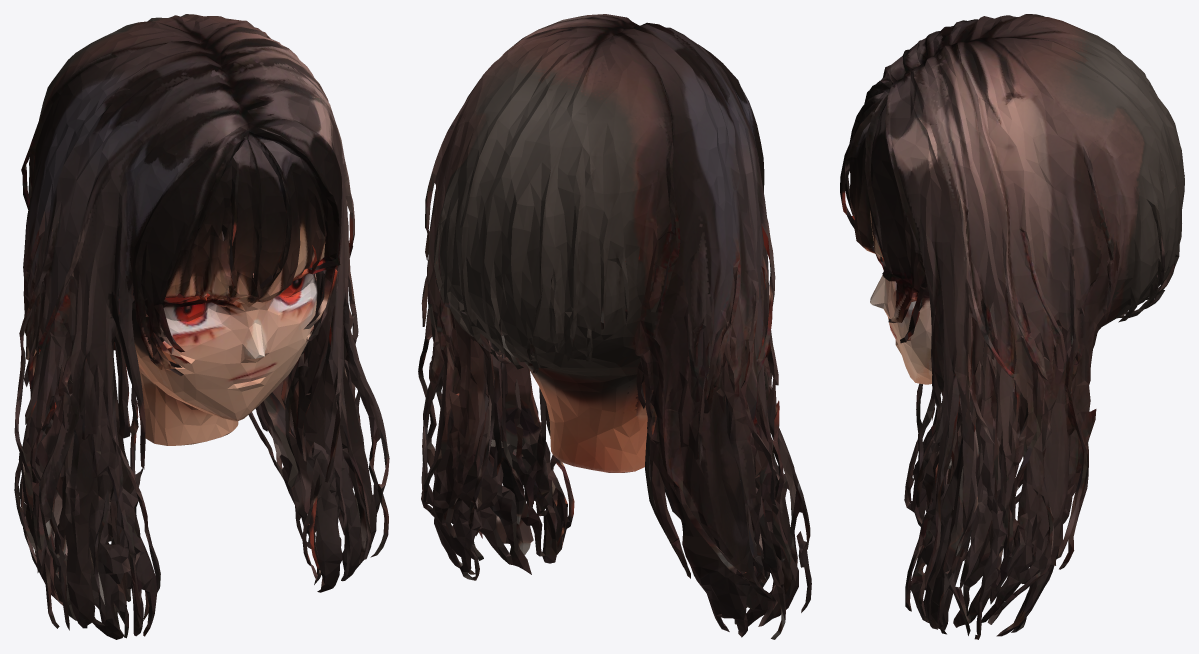
Rendered from side_shinobu_repaired_atlas.glb.
3 renders of one model, left to right at view 1: azimuth 30°, elevation 25°; view 2: azimuth 150°, elevation 25°; view 3: azimuth 270°, elevation 25°, orthographic. The views are drawn at different scales.
Parts seen in each view (by area): view 1: temp_mesh.ply; view 2: temp_mesh.ply; view 3: temp_mesh.ply.
Boxes of the visible parts, left/top/right/bottom form: temp_mesh.ply: left=14, top=14, right=389, bottom=639; temp_mesh.ply: left=418, top=14, right=811, bottom=639; temp_mesh.ply: left=840, top=14, right=1184, bottom=639.
Bounding box in the file's own units: 1.27 × 1.97 × 1.12.
Materials: 1 (1 with a texture image).
